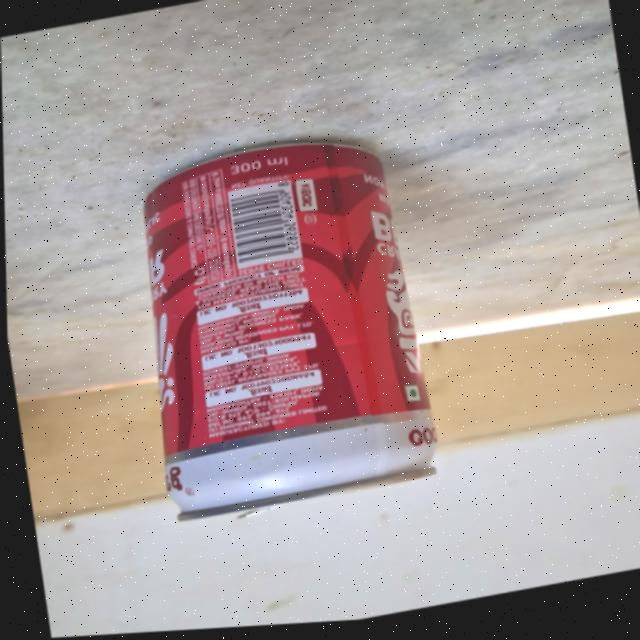Coolberg: (122, 137, 433, 529)
